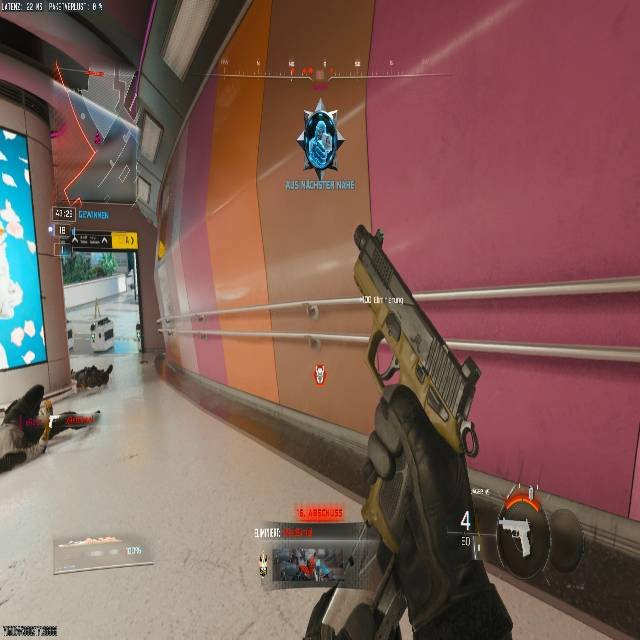player: (89, 313, 115, 346)
